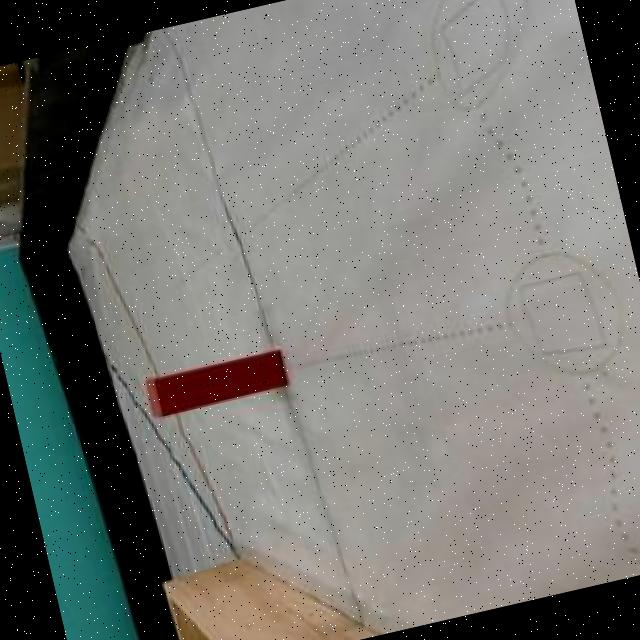redbox: (138, 346, 286, 421)
